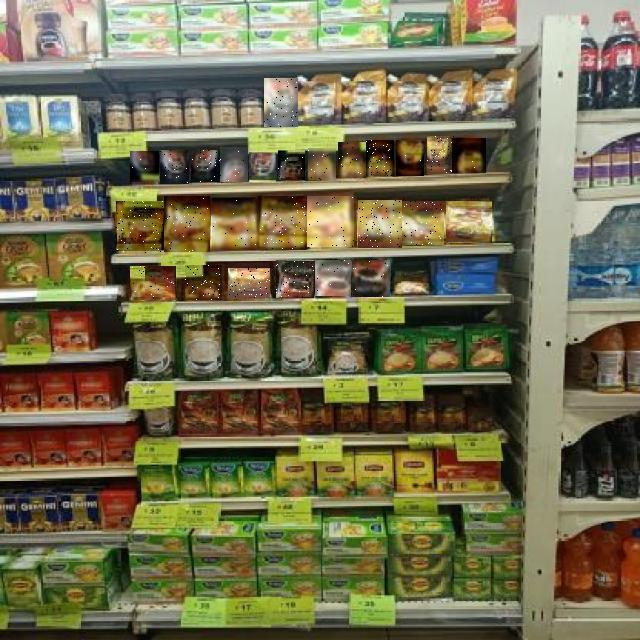Coffee: (258, 196, 307, 250), (164, 196, 210, 252), (116, 202, 164, 254), (308, 196, 356, 247), (212, 199, 259, 251), (358, 200, 402, 248), (446, 201, 492, 242), (402, 201, 444, 245), (264, 78, 298, 127), (130, 266, 176, 300), (277, 260, 315, 298), (352, 260, 390, 297), (186, 265, 224, 300), (315, 261, 351, 297), (228, 268, 270, 298), (454, 138, 486, 173), (428, 137, 456, 175), (396, 141, 424, 177), (366, 141, 394, 177), (339, 142, 367, 178), (160, 150, 189, 184), (220, 147, 248, 182), (191, 150, 220, 182), (130, 152, 159, 184), (309, 148, 337, 180), (278, 151, 305, 181), (249, 152, 276, 182)
